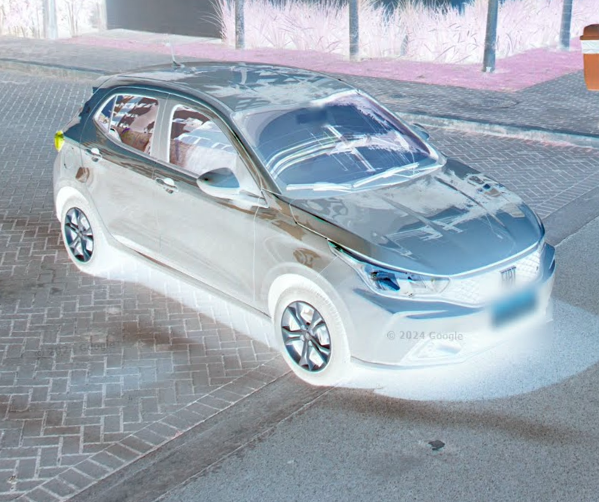car: (48, 41, 561, 394)
